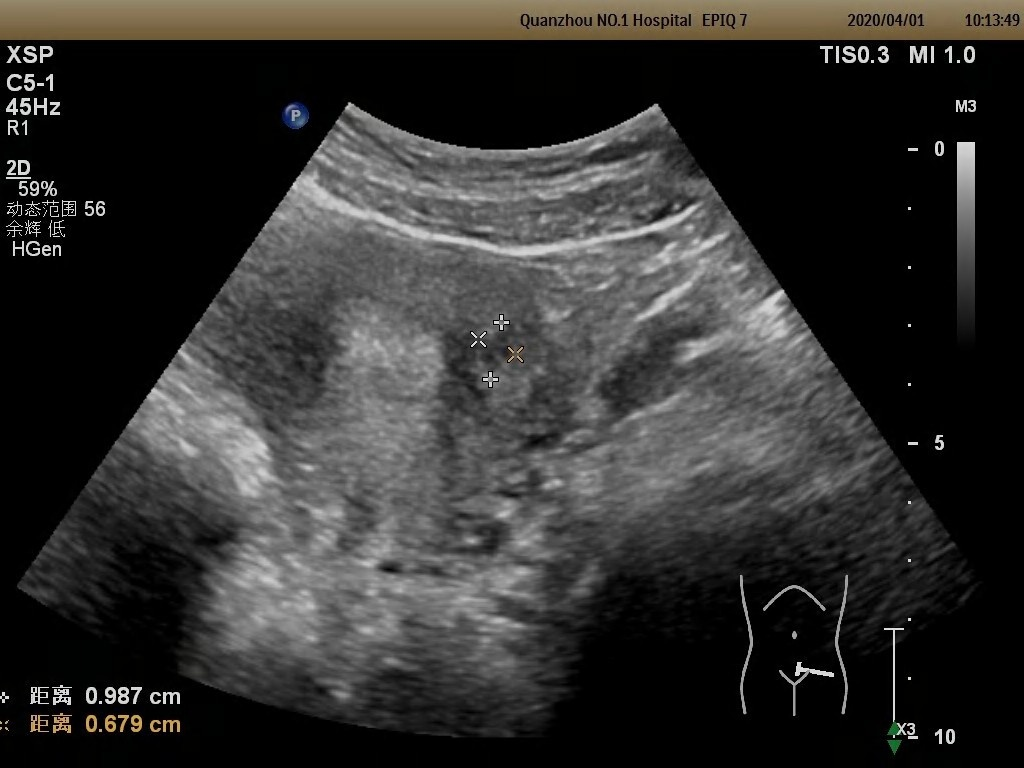肌瘤: (479, 322, 517, 380)
